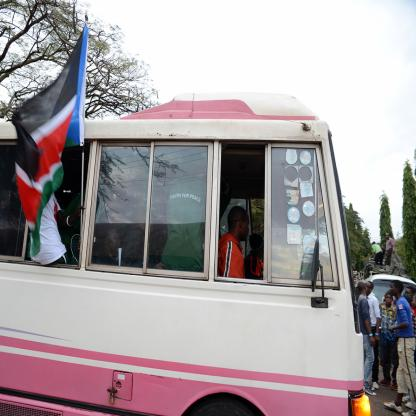Car: (364, 275, 416, 311)
